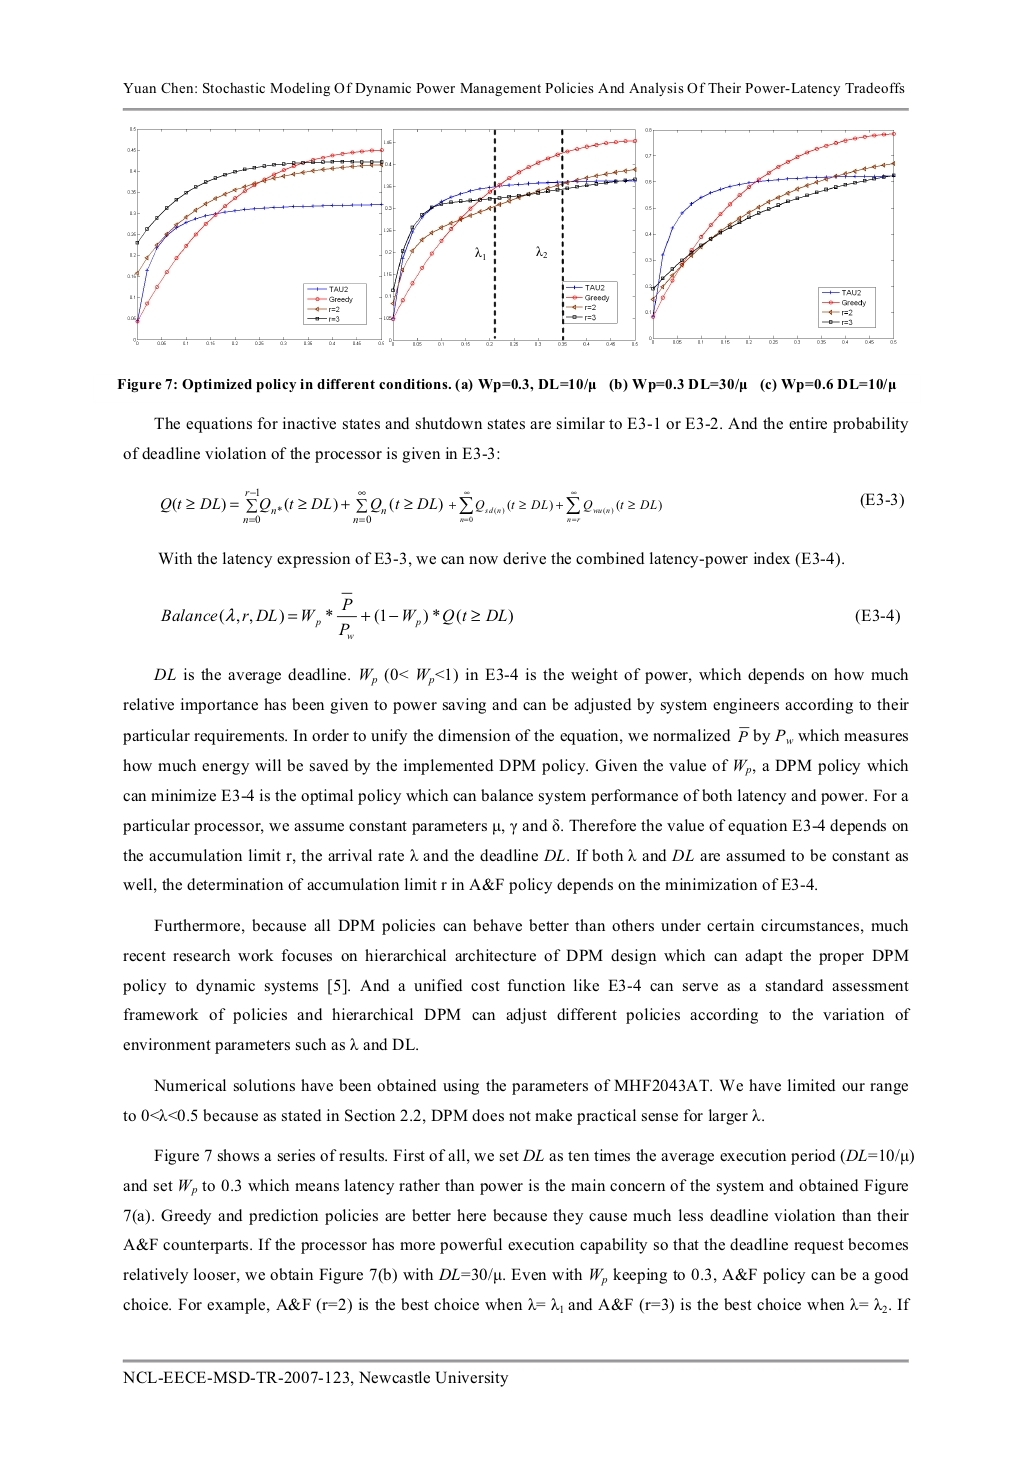figure: (127, 127, 385, 344), (645, 128, 896, 344), (389, 129, 637, 345), (122, 1357, 908, 1363), (122, 107, 908, 112)
formula: (160, 592, 899, 638), (161, 487, 903, 523)
